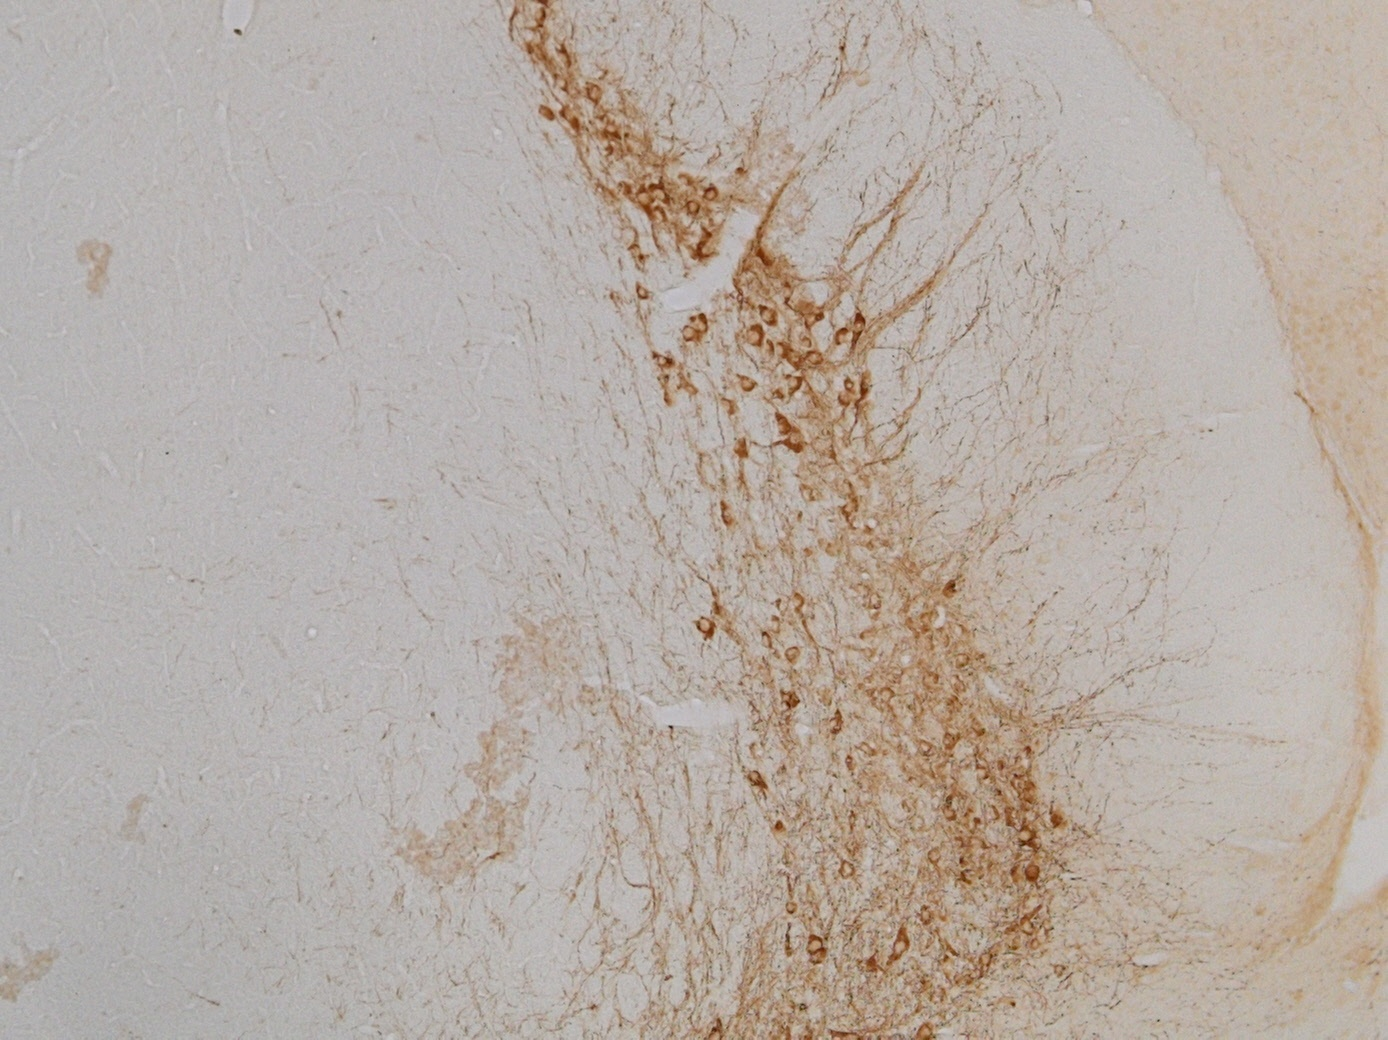neuron: (1015, 823, 1039, 847), (1019, 915, 1043, 939), (1023, 861, 1047, 885), (1025, 934, 1049, 958), (1049, 959, 1073, 983), (584, 81, 608, 105), (630, 279, 654, 303), (631, 188, 655, 212), (649, 182, 673, 206), (653, 351, 677, 375), (677, 321, 701, 345), (680, 198, 704, 222), (699, 184, 723, 208), (742, 765, 766, 789), (745, 326, 769, 350), (752, 630, 776, 654), (758, 304, 782, 328), (766, 815, 790, 839), (778, 896, 802, 920), (782, 643, 806, 667), (787, 427, 811, 451), (791, 997, 815, 1021), (795, 482, 819, 506), (804, 347, 828, 371), (805, 933, 829, 957), (833, 327, 857, 351), (835, 858, 859, 882), (842, 374, 866, 398), (847, 315, 871, 339), (858, 373, 882, 397), (861, 588, 885, 612), (889, 937, 913, 961), (914, 737, 938, 761), (936, 802, 960, 826), (950, 649, 974, 673), (976, 948, 1000, 972), (1039, 915, 1061, 939), (689, 314, 713, 336), (695, 616, 717, 640), (736, 373, 760, 395), (916, 905, 940, 927), (925, 846, 949, 868)
